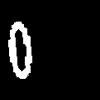chain: (8, 22, 31, 78)
